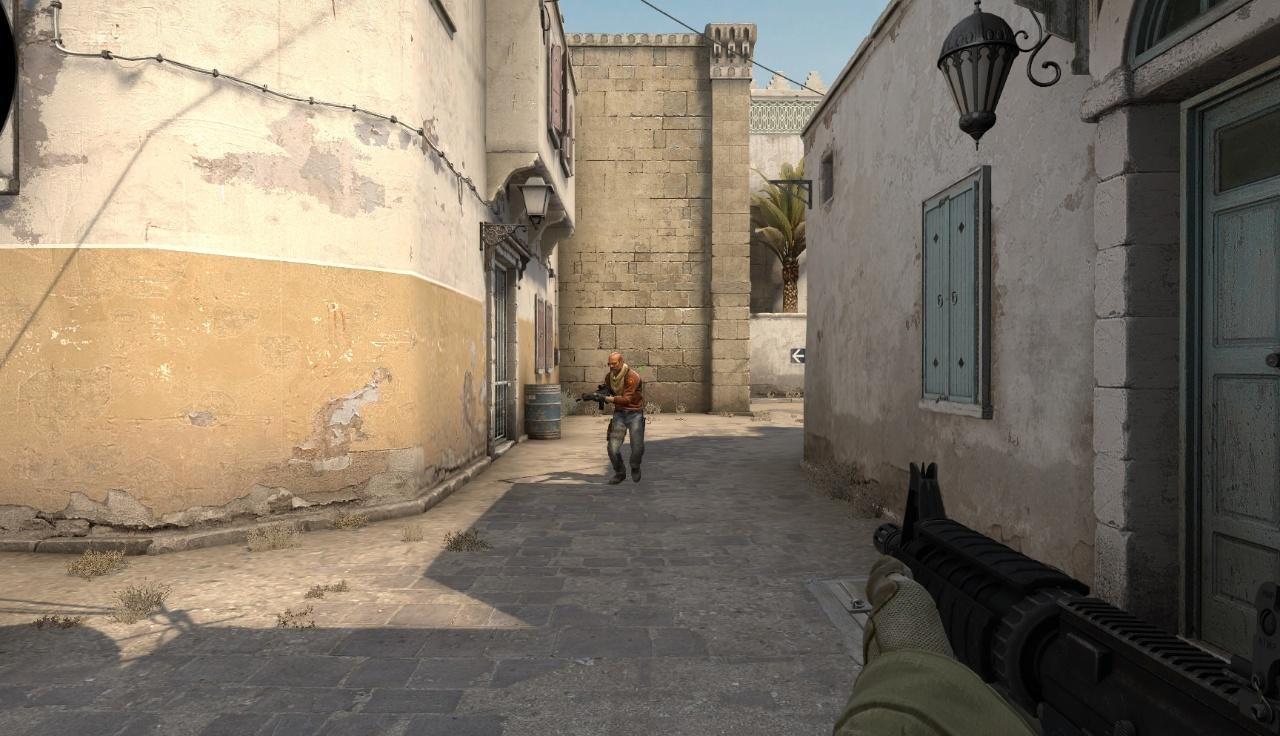rifle: (833, 460, 1280, 736)
tt: (597, 353, 646, 484)
tthead: (608, 353, 622, 373)
